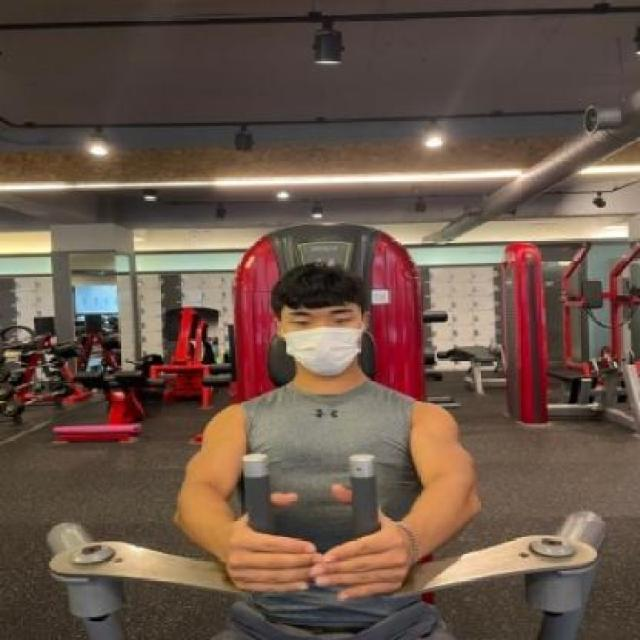chest fly machine: (3, 117, 640, 640)
